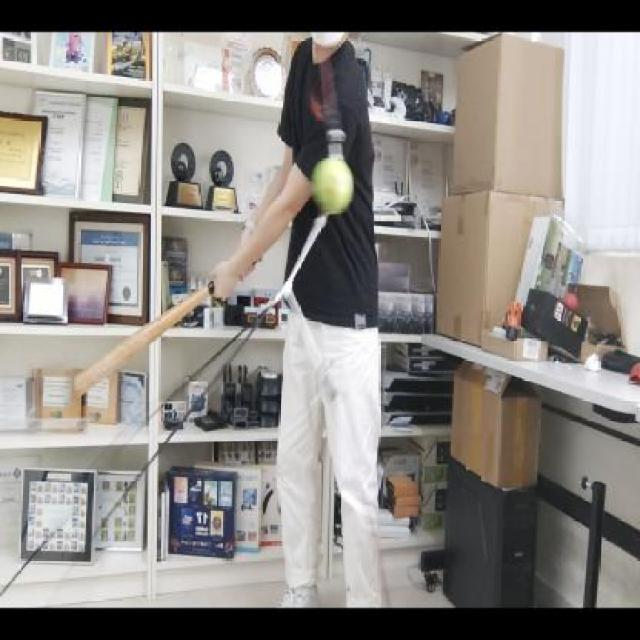baseball: (309, 156, 357, 216)
